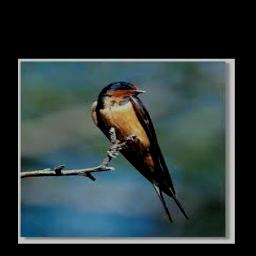Swallow: (91, 81, 189, 222)
